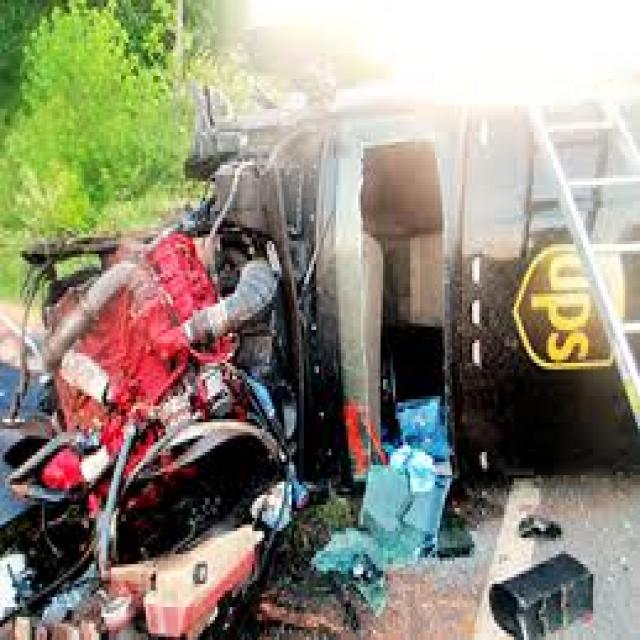accident: (0, 59, 638, 640)
